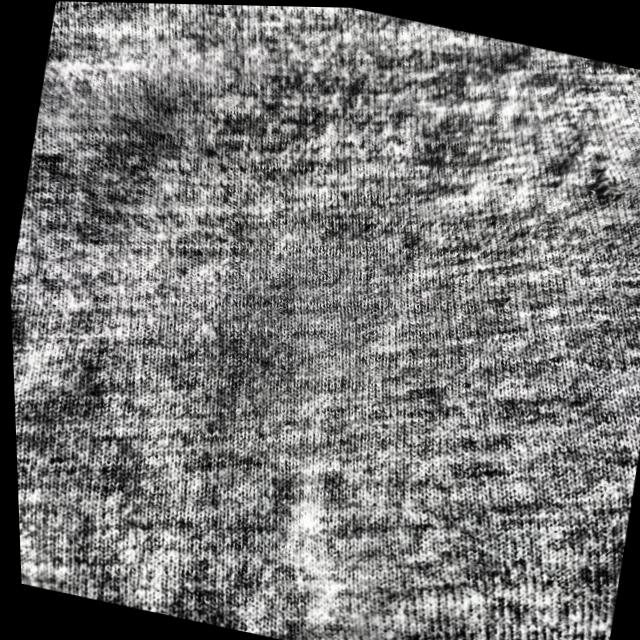Hole: (568, 151, 636, 216)
